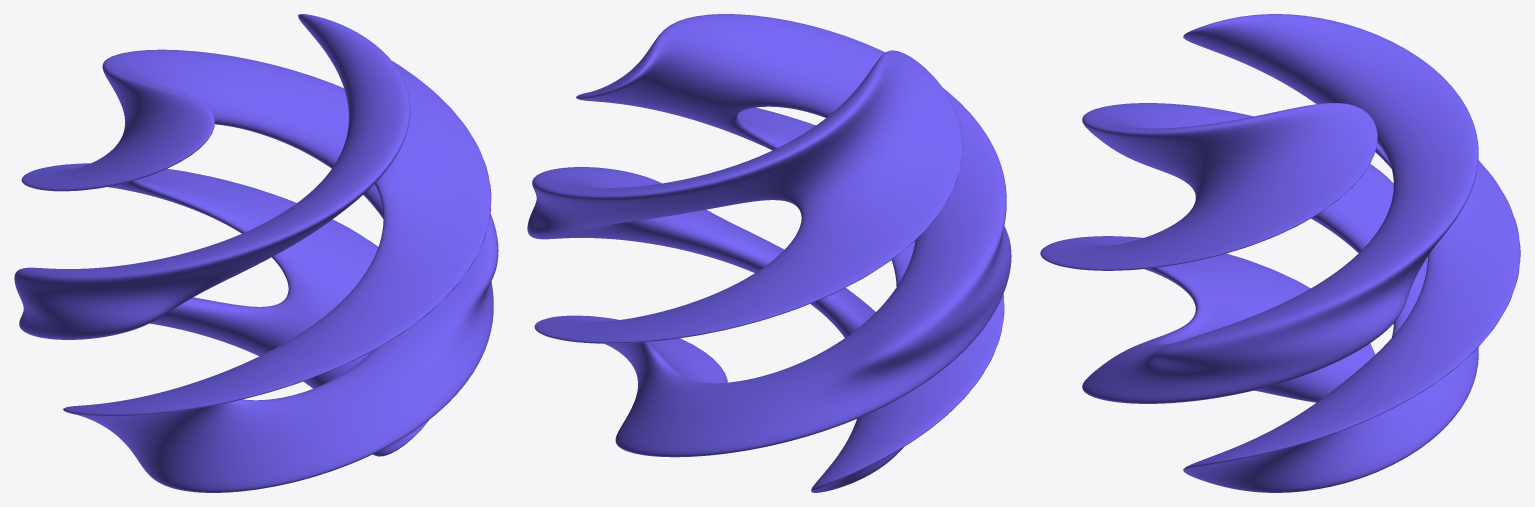
3 views of the same model, side by side, from view 1: azimuth 30°, elevation 25°; view 2: azimuth 150°, elevation 25°; view 3: azimuth 270°, elevation 25° (orthographic). The views are drawn at different scales.
Visible parts, largest first — view 1: TwistedTorus; view 2: TwistedTorus; view 3: TwistedTorus.
Part boxes in pixels (box(x1,y1,x2,y2)): TwistedTorus: box(14, 14, 498, 492); TwistedTorus: box(527, 14, 1011, 492); TwistedTorus: box(1040, 14, 1520, 492).
Size of the model in its own units: 2.47 by 2.19 by 2.47.
